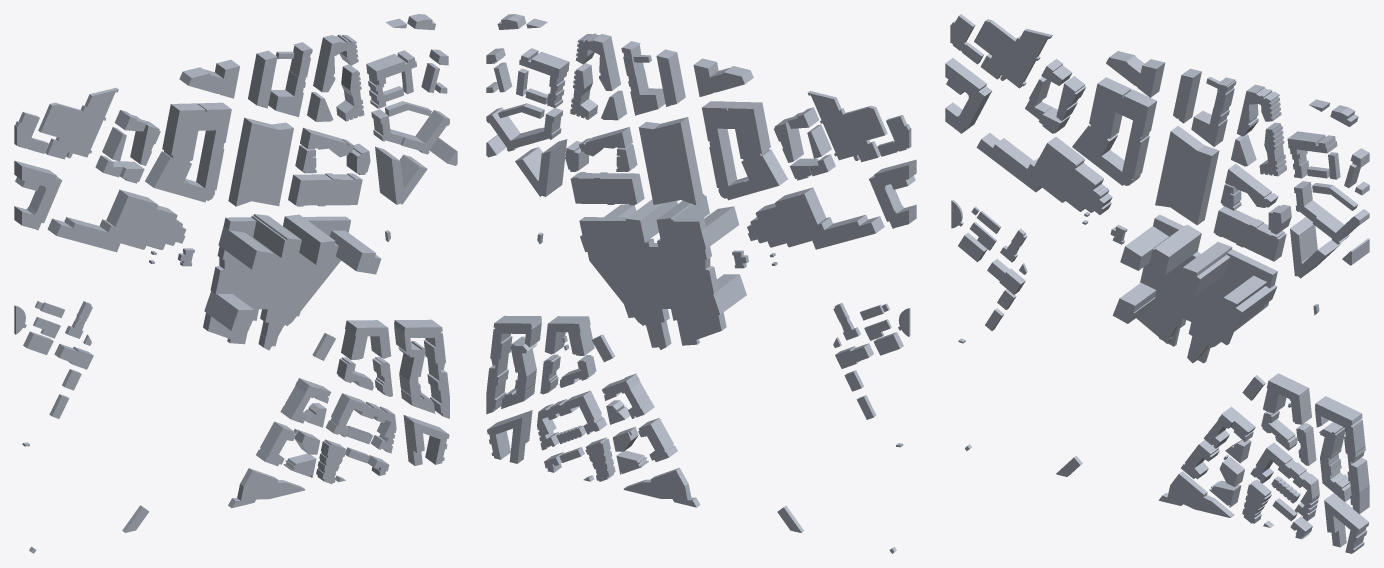
Rendered from kalasatama-waterfront-buildings.obj.
3 renders of one model, left to right at view 1: azimuth 30°, elevation 25°; view 2: azimuth 150°, elevation 25°; view 3: azimuth 330°, elevation 25°, orthographic. The views are drawn at different scales.
Parts seen in each view (by area): view 1: 103201974X-0, 1031422788-0, 103617387B-0, 1036725017-0, 1032447582-0, 103023724X-1, 103526938M-0, 103635712F-0, 1031518811-0, 1030141204-0, 1028407640-0, 1019028900-0 (+31 smaller); view 2: 103201974X-0, 1031422788-0, 103617387B-0, 1036725017-0, 1032447582-0, 103023724X-1, 103526938M-0, 103635712F-0, 1031518811-0, 1030141204-0, 1019028900-0, 103023724X-0 (+30 smaller); view 3: 103201974X-0, 1031422788-0, 103617387B-0, 1036725017-0, 1032447582-0, 103023724X-1, 103526938M-0, 1028407640-0, 1031518811-0, 103635712F-0, 1028407651-0, 103023724X-0 (+33 smaller).
Boxes of the visible parts, left/top/right/bottom form: 103201974X-0: left=203, top=216, right=350, bottom=350; 1031422788-0: left=47, top=189, right=186, bottom=252; 103617387B-0: left=228, top=117, right=293, bottom=206; 1036725017-0: left=145, top=102, right=231, bottom=196; 1032447582-0: left=38, top=87, right=118, bottom=159; 103023724X-1: left=394, top=319, right=449, bottom=418; 103526938M-0: left=288, top=173, right=362, bottom=206; 103635712F-0: left=375, top=146, right=427, bottom=204; 1031518811-0: left=184, top=130, right=227, bottom=202; 1030141204-0: left=341, top=320, right=391, bottom=359; 1028407640-0: left=283, top=214, right=338, bottom=267; 1019028900-0: left=228, top=468, right=305, bottom=508; 103201974X-0: left=579, top=217, right=726, bottom=349; 1031422788-0: left=747, top=187, right=884, bottom=249; 103617387B-0: left=638, top=117, right=703, bottom=205; 1036725017-0: left=702, top=101, right=787, bottom=194; 1032447582-0: left=808, top=91, right=887, bottom=162; 103023724X-1: left=486, top=315, right=541, bottom=414; 103526938M-0: left=570, top=172, right=644, bottom=205; 103635712F-0: left=515, top=139, right=567, bottom=196; 1031518811-0: left=705, top=128, right=748, bottom=200; 1030141204-0: left=544, top=316, right=594, bottom=355; 1019028900-0: left=623, top=467, right=700, bottom=507; 103023724X-0: left=501, top=336, right=537, bottom=408; 103201974X-0: left=1136, top=214, right=1277, bottom=363; 1031422788-0: left=976, top=133, right=1112, bottom=214; 103617387B-0: left=1155, top=125, right=1219, bottom=225; 1036725017-0: left=1072, top=77, right=1156, bottom=169; 1032447582-0: left=974, top=19, right=1052, bottom=88; 103023724X-1: left=1315, top=396, right=1369, bottom=514; 103526938M-0: left=1213, top=206, right=1286, bottom=261; 1028407640-0: left=1178, top=242, right=1232, bottom=297; 1031518811-0: left=1101, top=120, right=1153, bottom=185; 103635712F-0: left=1290, top=217, right=1341, bottom=278; 1028407651-0: left=1217, top=275, right=1277, bottom=324; 103023724X-0: left=1319, top=422, right=1351, bottom=501.
Size of the model in its own units: 650 by 650 by 95.
